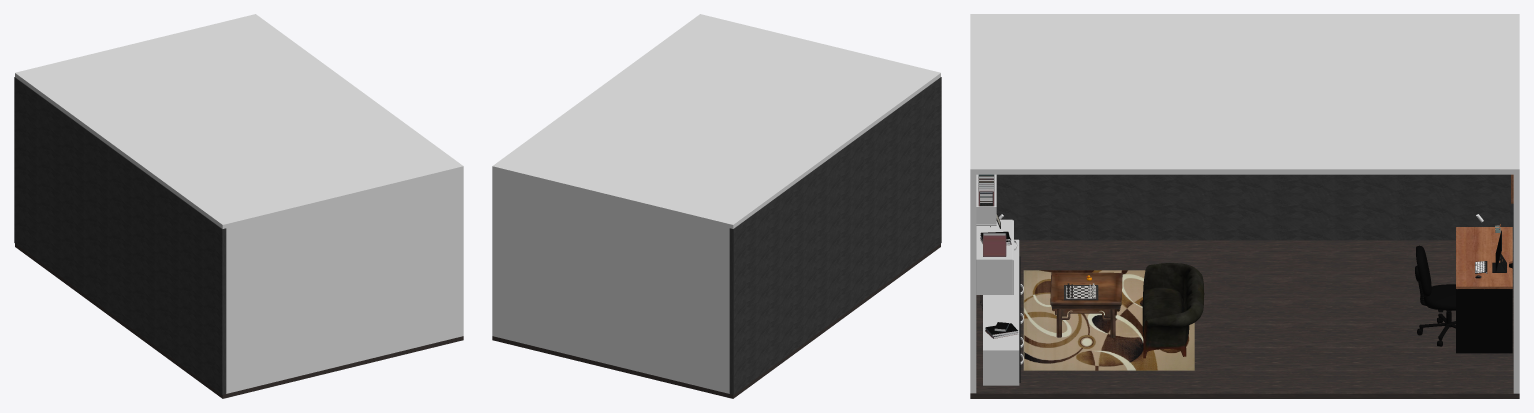
The model's file is room.black3.glb.
3 views of the same model, side by side, from view 1: azimuth 30°, elevation 25°; view 2: azimuth 150°, elevation 25°; view 3: azimuth 270°, elevation 25° (orthographic). The views are drawn at different scales.
Parts seen in each view (by area): view 1: Cube.003, Cube.001, RoomBackWall, Cube.004; view 2: Cube.003, Cube.002, RoomBackWall, Cube.004; view 3: Cube.003, Cube.004, RoomBackWall, Carpet / rug.002, TV Unit, Desk_Support, sofa_02_Base, Desk_Wood, chinese_tea_table, Chair, Cube.002, Cube.001 (+2 smaller).
Boxes of the visible parts, left/top/right/bottom form: Cube.003: left=15, top=14, right=463, bottom=228; Cube.001: left=226, top=170, right=463, bottom=393; RoomBackWall: left=14, top=77, right=226, bottom=394; Cube.004: left=15, top=243, right=463, bottom=398; Cube.003: left=492, top=14, right=940, bottom=228; Cube.002: left=492, top=170, right=729, bottom=393; RoomBackWall: left=729, top=77, right=941, bottom=394; Cube.004: left=492, top=243, right=940, bottom=398; Cube.003: left=970, top=14, right=1519, bottom=174; Cube.004: left=970, top=240, right=1519, bottom=398; RoomBackWall: left=996, top=174, right=1513, bottom=240; Carpet / rug.002: left=1023, top=270, right=1194, bottom=370; TV Unit: left=976, top=174, right=1023, bottom=385; Desk_Support: left=1456, top=289, right=1512, bottom=353; sofa_02_Base: left=1143, top=263, right=1204, bottom=358; Desk_Wood: left=1456, top=227, right=1512, bottom=288; chinese_tea_table: left=1050, top=272, right=1122, bottom=337; Chair: left=1415, top=245, right=1455, bottom=346; Cube.002: left=1513, top=174, right=1519, bottom=393; Cube.001: left=970, top=174, right=976, bottom=393.
Bounding box in the file's own units: 12.2 × 8.4 × 18.2.
Materials: 62 (21 with a texture image).
